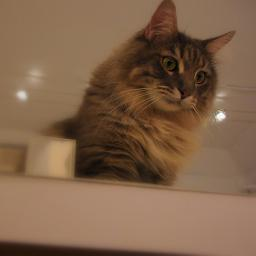catnose: (172, 84, 197, 101)
